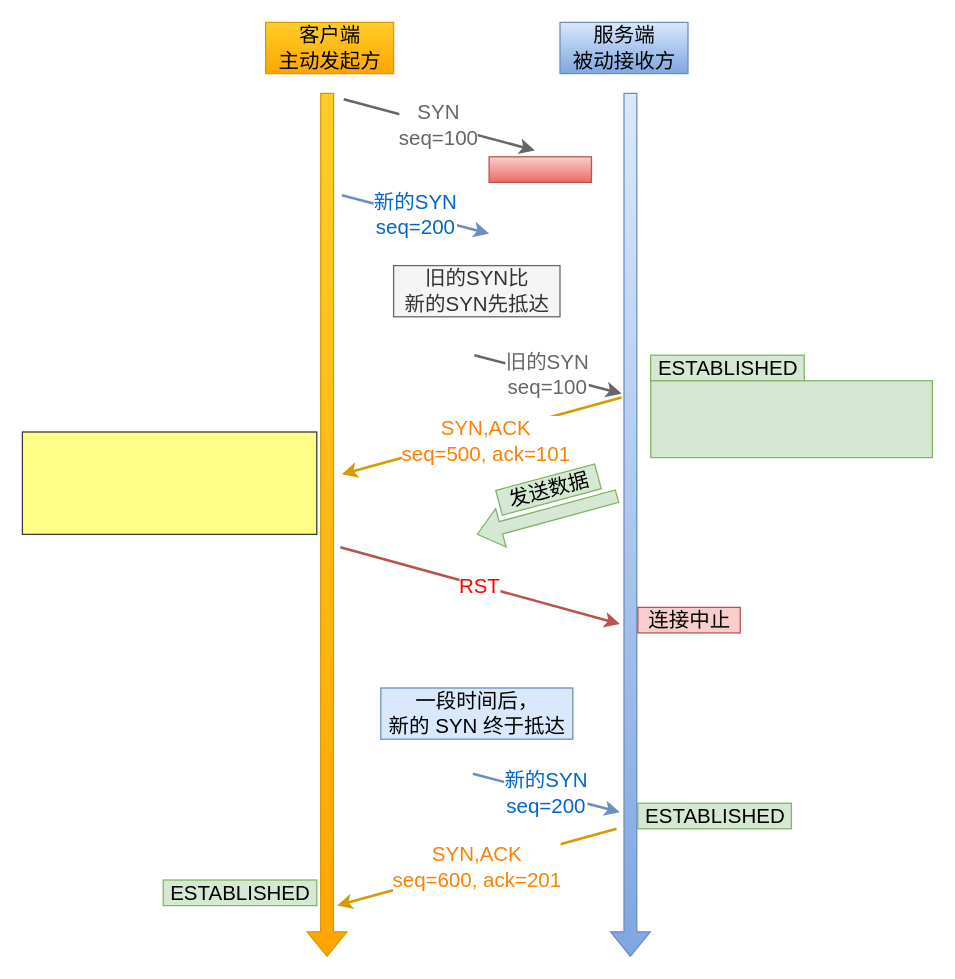
Some shapes in this 955 by 979 pixel diagram are drawn without their labels. Each missing label, with the box of its shape:
客户端通过上下文比较 发现自己期望收到的 ack 应该是201，而不是101， 所以发起了 RST 报文中止连接: (21, 431, 317, 534)
由于两次握手，所以服务端在 收到第一次握手的时候， 就建立连接: (649, 380, 932, 458)
网络阻塞: (488, 156, 591, 182)
